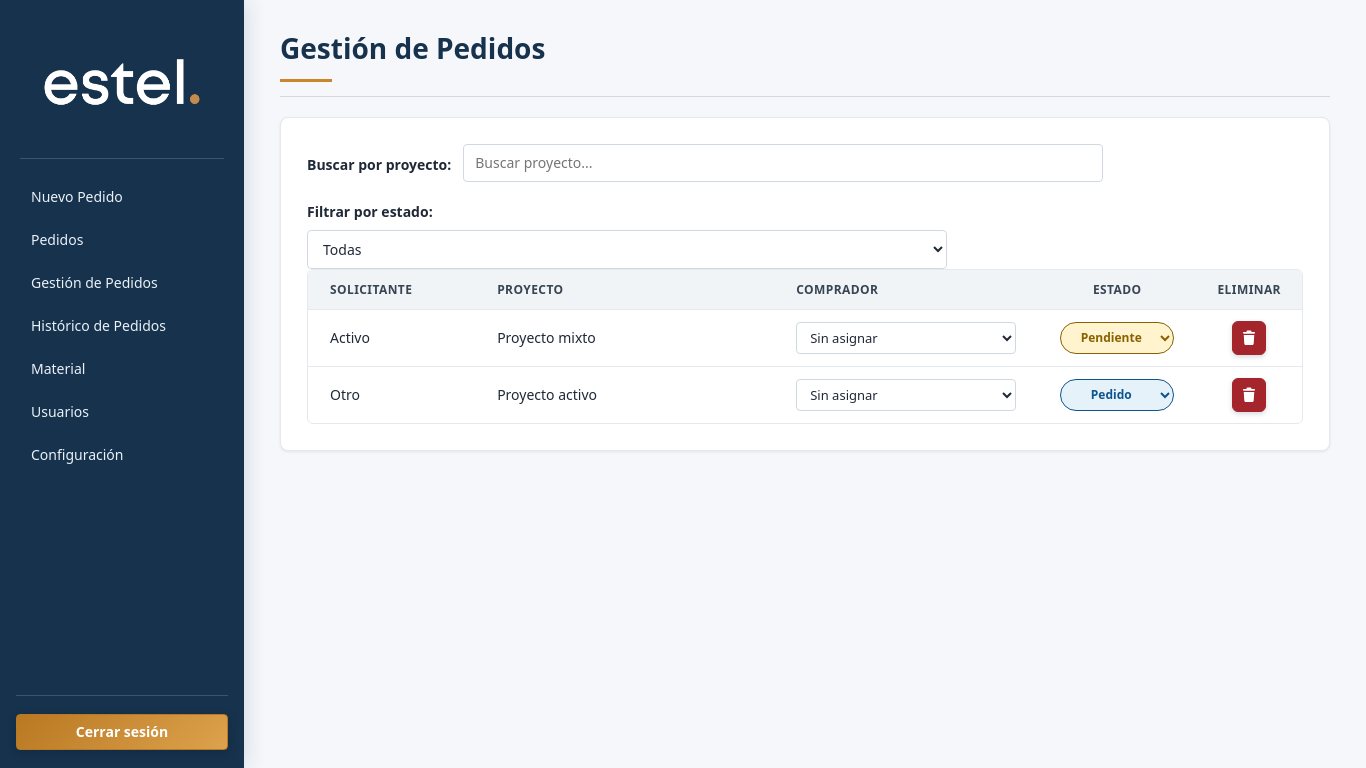
Test case: Gestión excluye archivados incluso con datos mezclados y al buscar
expect the text "Activo" is shown: met, box [308,310,475,367]
Type "Proyecto mixto" into the search field at (783, 163), box [463,144,1103,182]
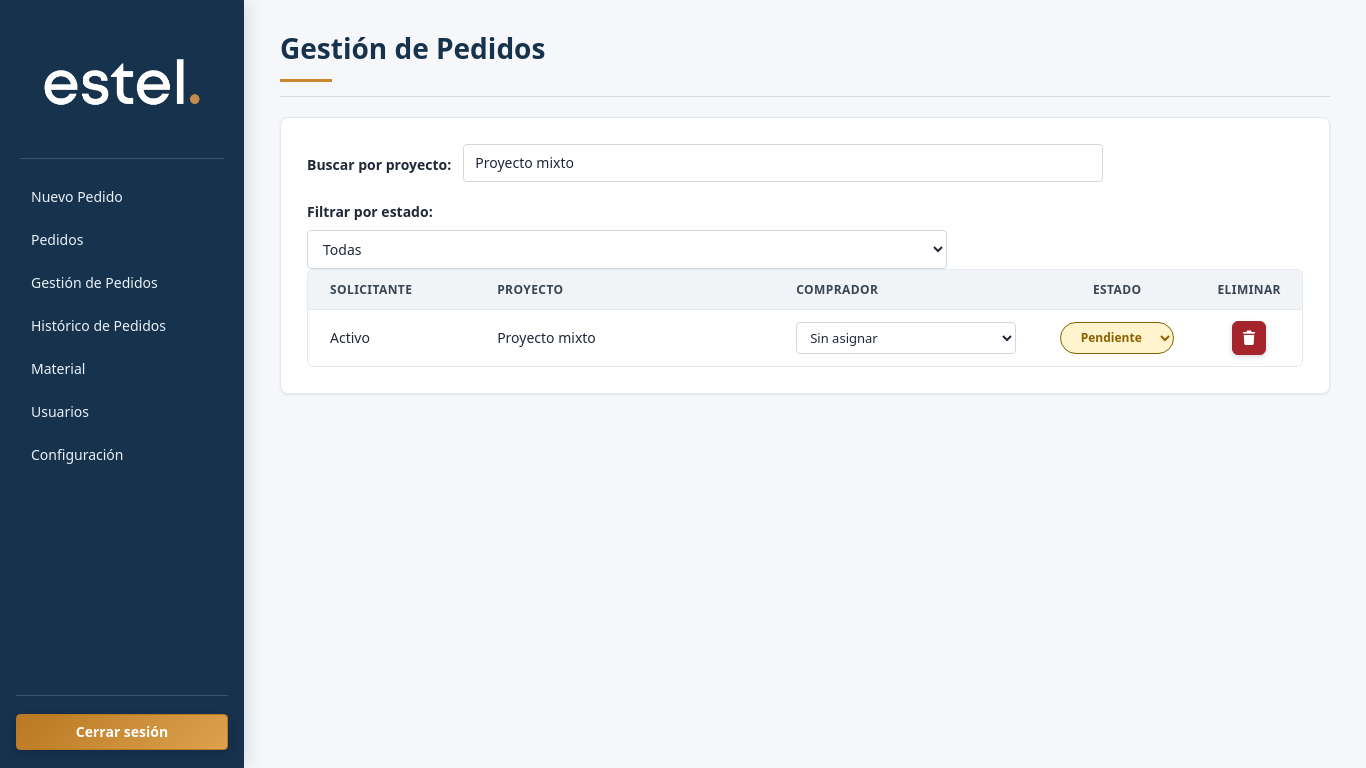
expect the text "Activo" is shown: met, box [308,310,475,366]
expect the text "Otro" is gone: met
